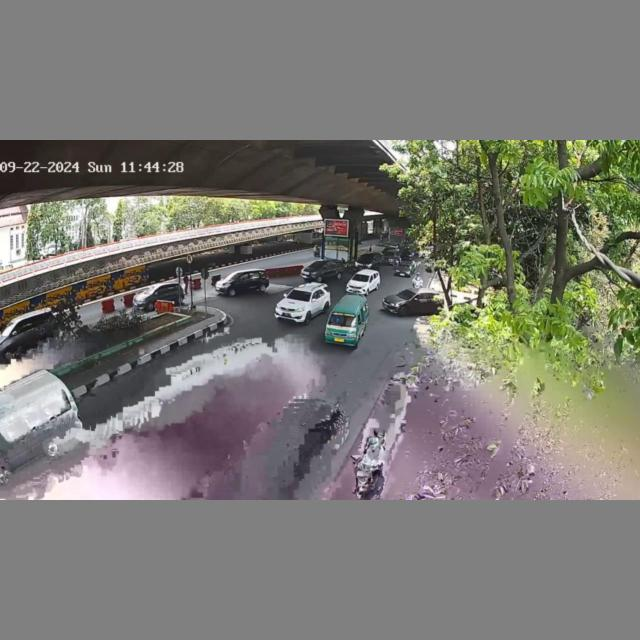windshield: (328, 311, 358, 328), (287, 290, 310, 301), (397, 289, 415, 300), (352, 274, 369, 281)
